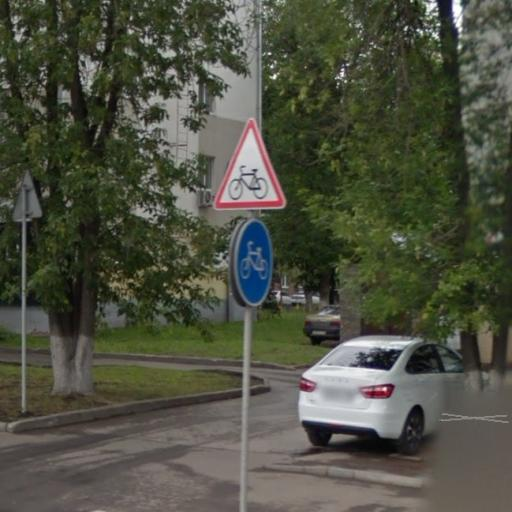traffic_sign: (212, 119, 291, 215), (234, 218, 276, 310)
